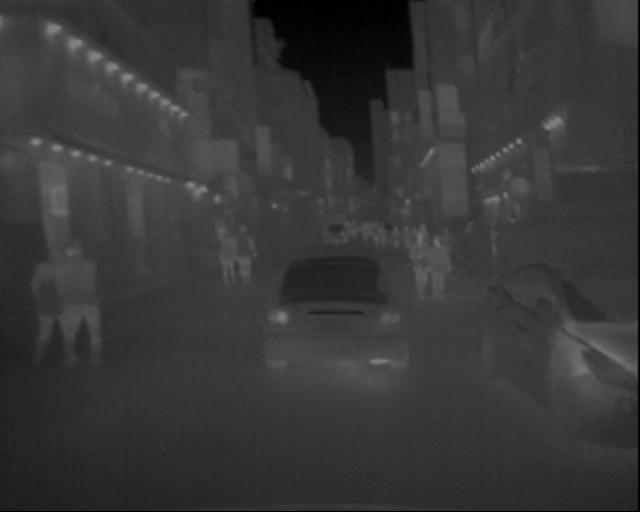person: (45, 240, 96, 400), (9, 245, 65, 388), (406, 227, 435, 305), (431, 234, 454, 302), (238, 222, 258, 288), (216, 228, 236, 286)
